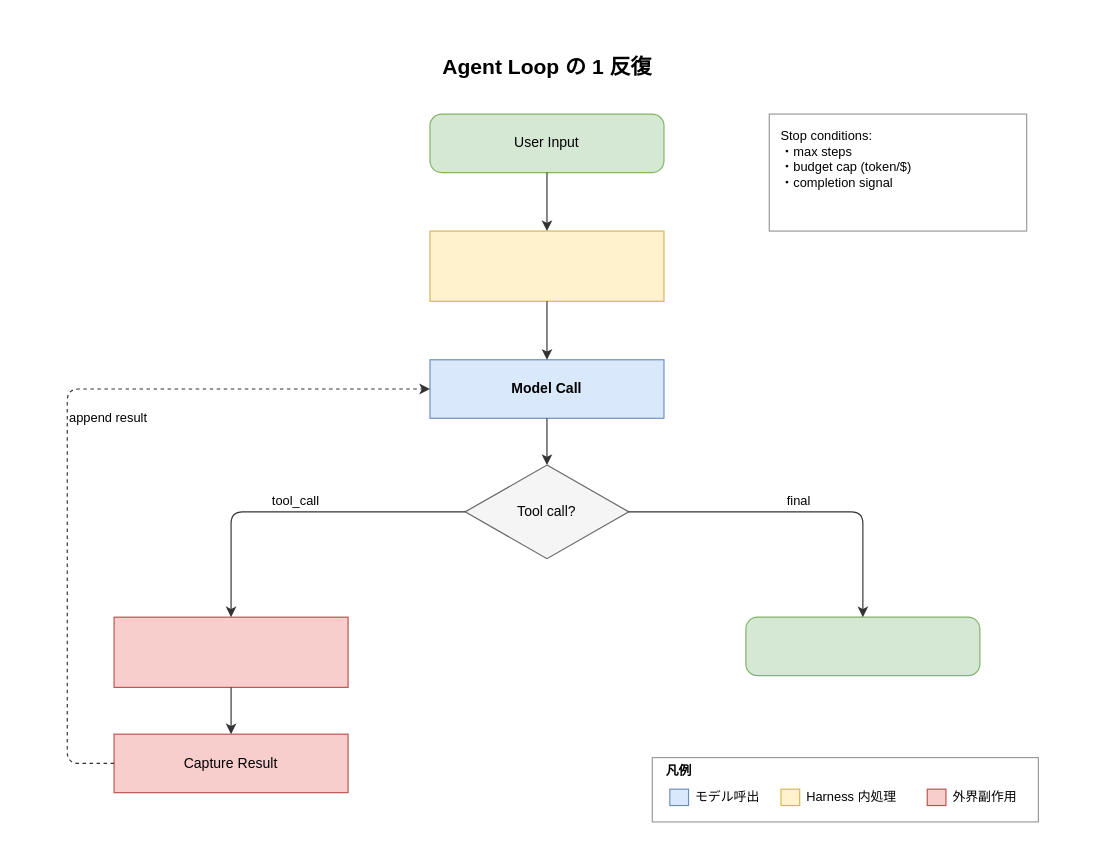
This 1093x859 diagram has some shape labels left out. The centre of each missing label's shape, as x and y in pixels:
Compose Context (system prompt + history + tool schemas): the point at 546,265
Execute Tool (sandboxed / permission gate): the point at 230,651
Return to User: the point at 862,646
